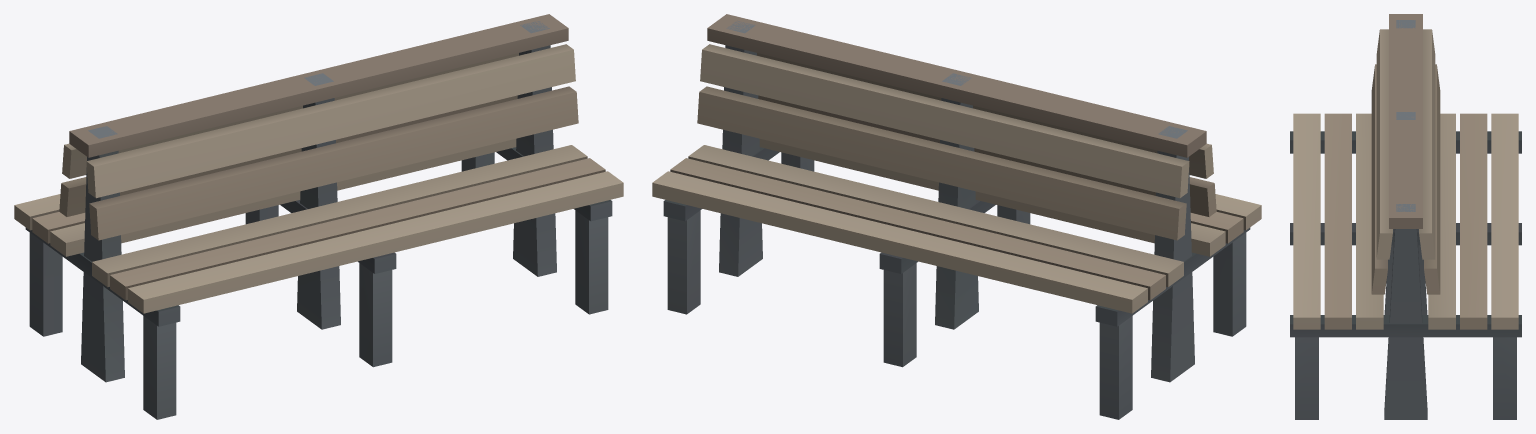
The model's file is bench.lod1.glb.
3 renders of one model, left to right at view 1: azimuth 30°, elevation 25°; view 2: azimuth 150°, elevation 25°; view 3: azimuth 270°, elevation 25°, orthographic. The views are drawn at different scales.
Size of the model in its own units: 2 by 0.95 by 0.96.
